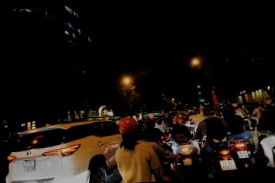Bien-so: (213, 168, 230, 181), (26, 145, 40, 159), (230, 163, 242, 171), (179, 163, 187, 170)
